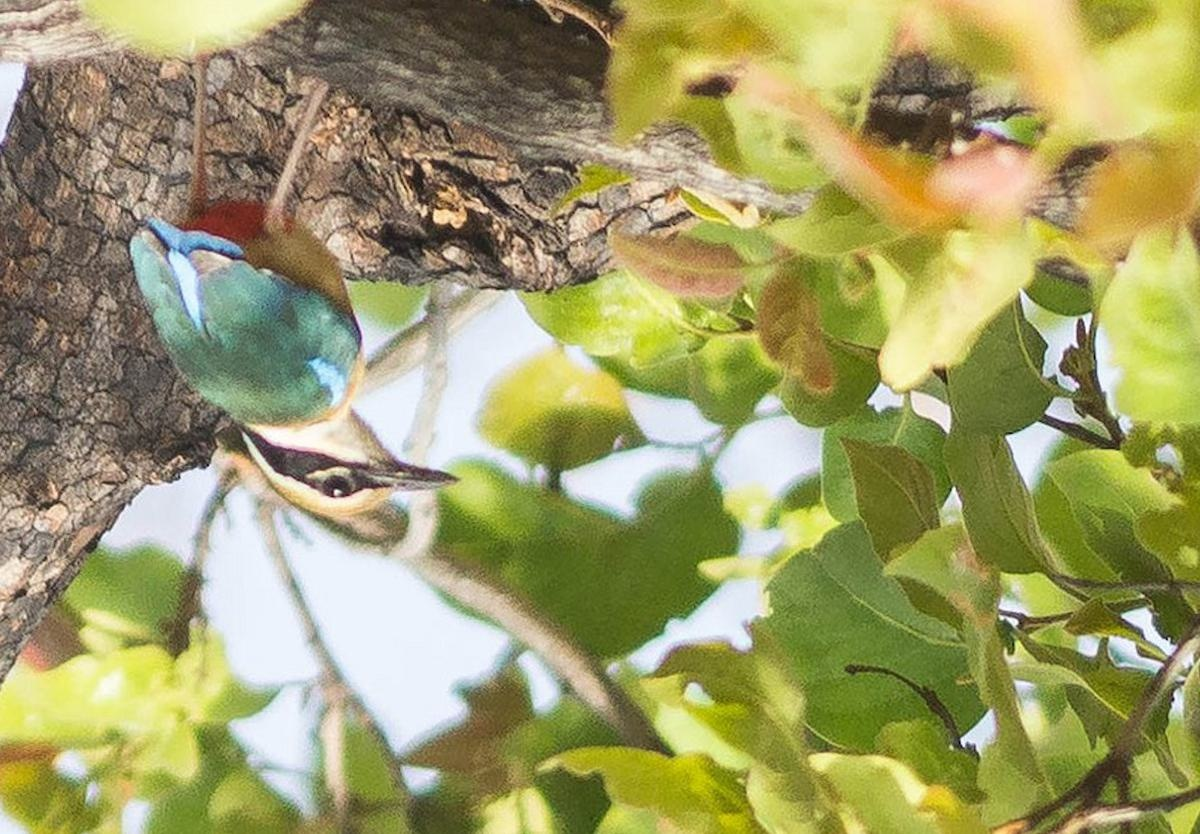pitta: (100, 109, 479, 535)
